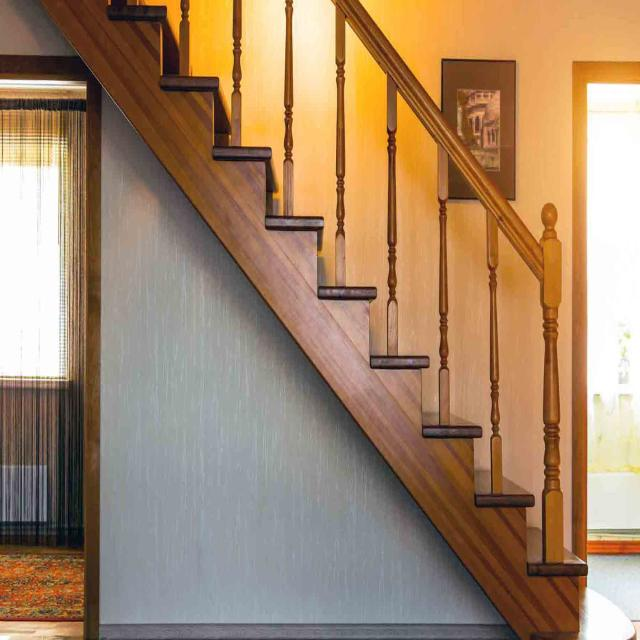Woods: (39, 0, 587, 640), (0, 74, 107, 623), (572, 61, 640, 567)
